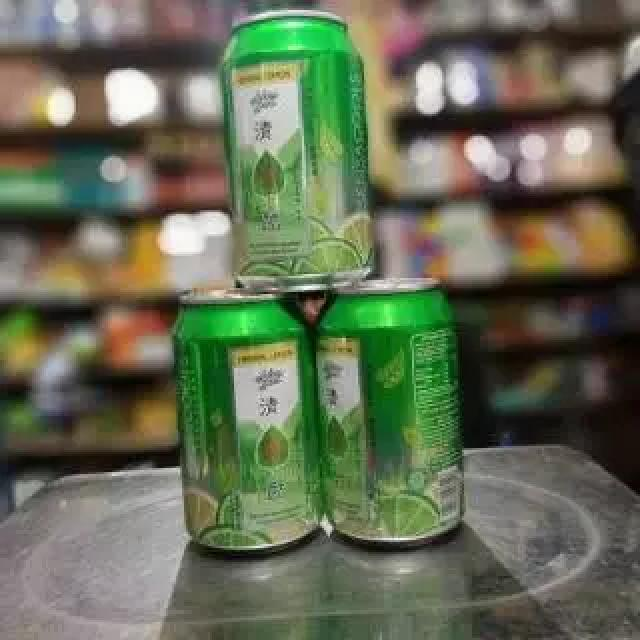ademsarikaleng: (222, 10, 377, 294), (168, 284, 323, 560), (314, 276, 467, 554)
